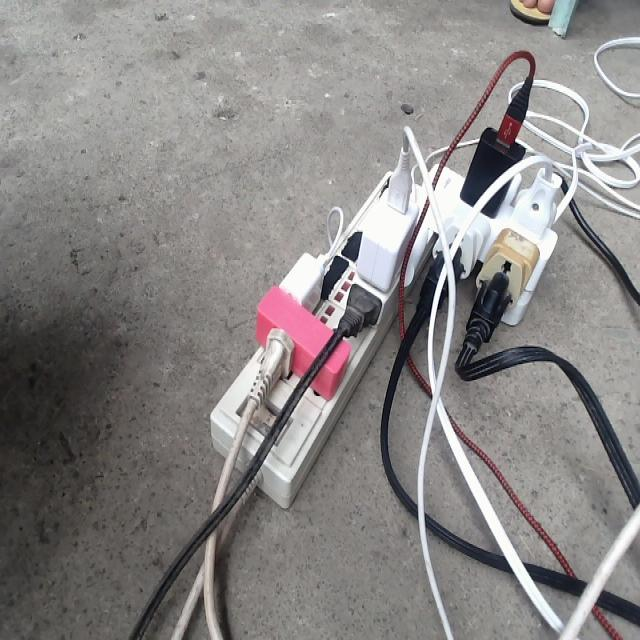-: (208, 120, 559, 509)
